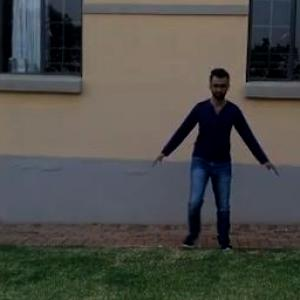land: (146, 68, 290, 257)
